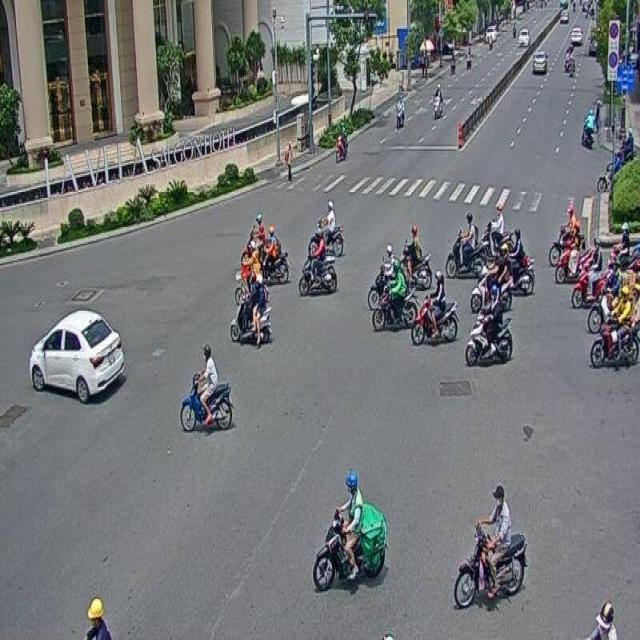car: (28, 304, 122, 406)
motorcycle: (454, 482, 527, 616), (312, 470, 388, 598), (178, 344, 232, 430), (588, 283, 640, 366), (465, 283, 513, 366), (411, 270, 458, 346), (370, 259, 416, 332), (296, 228, 338, 298), (444, 209, 486, 279), (230, 274, 268, 344)
